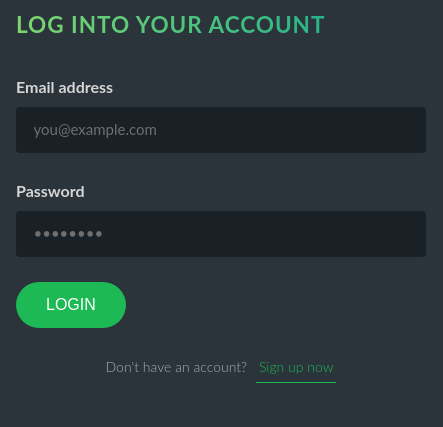
Test: LoginForm › validates password length
Enter short password
In the field labelled "Email address": (221,130) [16,107,426,153], type "test@example.com"
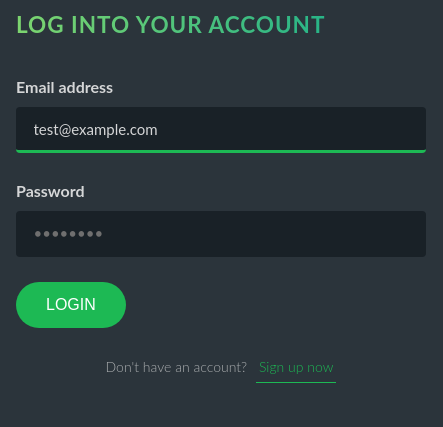
In the password field labelled "Password": (221,234) [16,211,426,257], type "short"
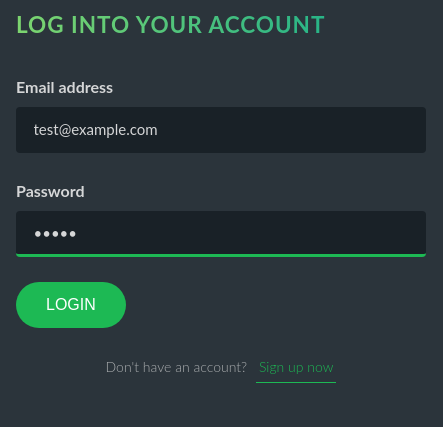
Click the button "Login": (71,305) [16,282,126,328]
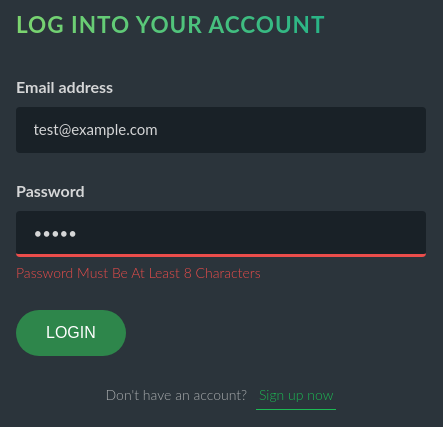
Expected: the text "Password must be at least 8 characters" is shown, [16,264,261,281]
